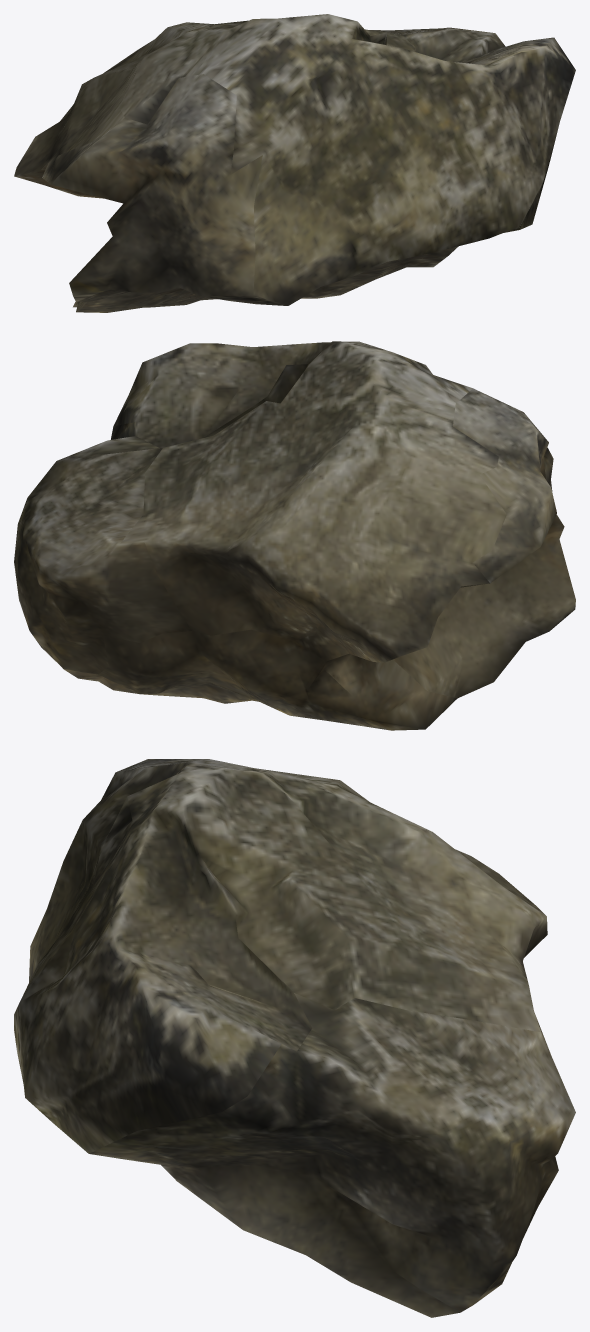
The model's file is pine_rockb_11.glb.
3 renders of one model, top to bottom at view 1: azimuth 30°, elevation 25°; view 2: azimuth 150°, elevation 25°; view 3: azimuth 270°, elevation 25°, orthographic. The views are drawn at different scales.
Visible parts, largest first — view 1: pine_rockb_11; view 2: pine_rockb_11; view 3: pine_rockb_11.
Boxes of the visible parts, x1=… form: pine_rockb_11: x1=14, y1=14, x2=575, y2=312; pine_rockb_11: x1=14, y1=341, x2=575, y2=730; pine_rockb_11: x1=14, y1=759, x2=575, y2=1317.
Bounding box in the file's own units: 1.74 × 1.16 × 1.36.
1 material, 1 textured.
